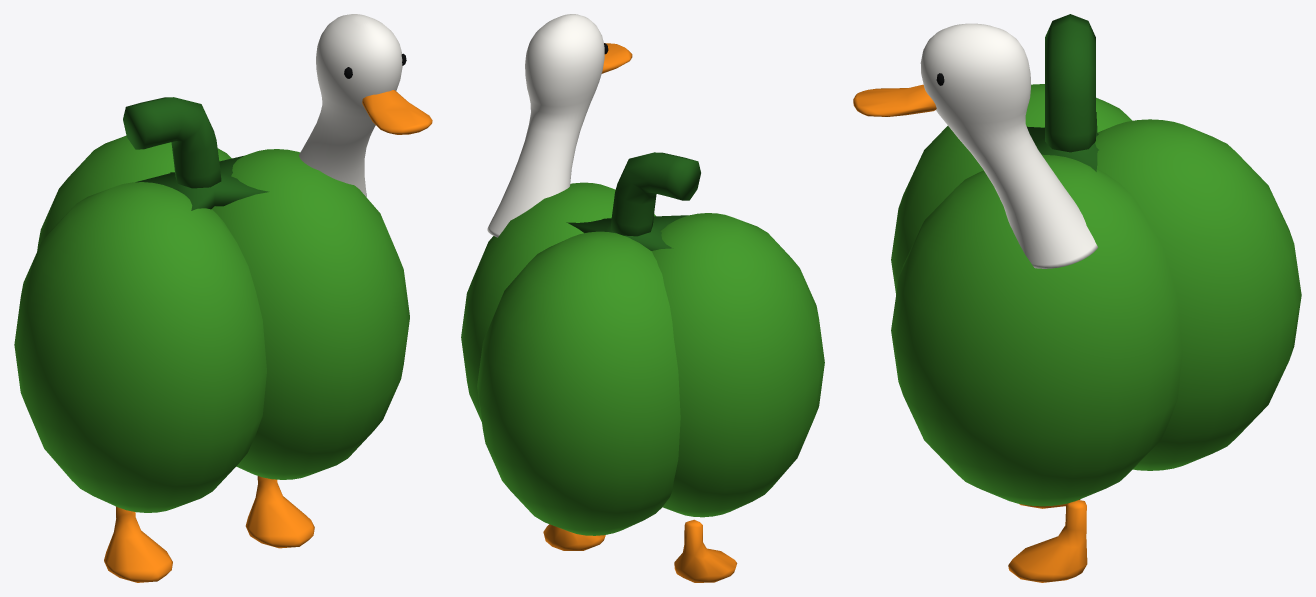
The model's file is duck-greenpepper.glb.
The picture shows the model from 3 angles, left to right: view 1: azimuth 30°, elevation 25°; view 2: azimuth 150°, elevation 25°; view 3: azimuth 270°, elevation 25°; orthographic projection. The views are drawn at different scales.
Visible parts, largest first — view 1: duck-greenpepper; view 2: duck-greenpepper; view 3: duck-greenpepper.
Boxes of the visible parts, left/top/right/bottom form: duck-greenpepper: left=14, top=14, right=432, bottom=582; duck-greenpepper: left=461, top=14, right=824, bottom=582; duck-greenpepper: left=853, top=14, right=1301, bottom=582.
Size of the model in its own units: 0.6966 by 1 by 0.7122.
1 material, 1 textured.
